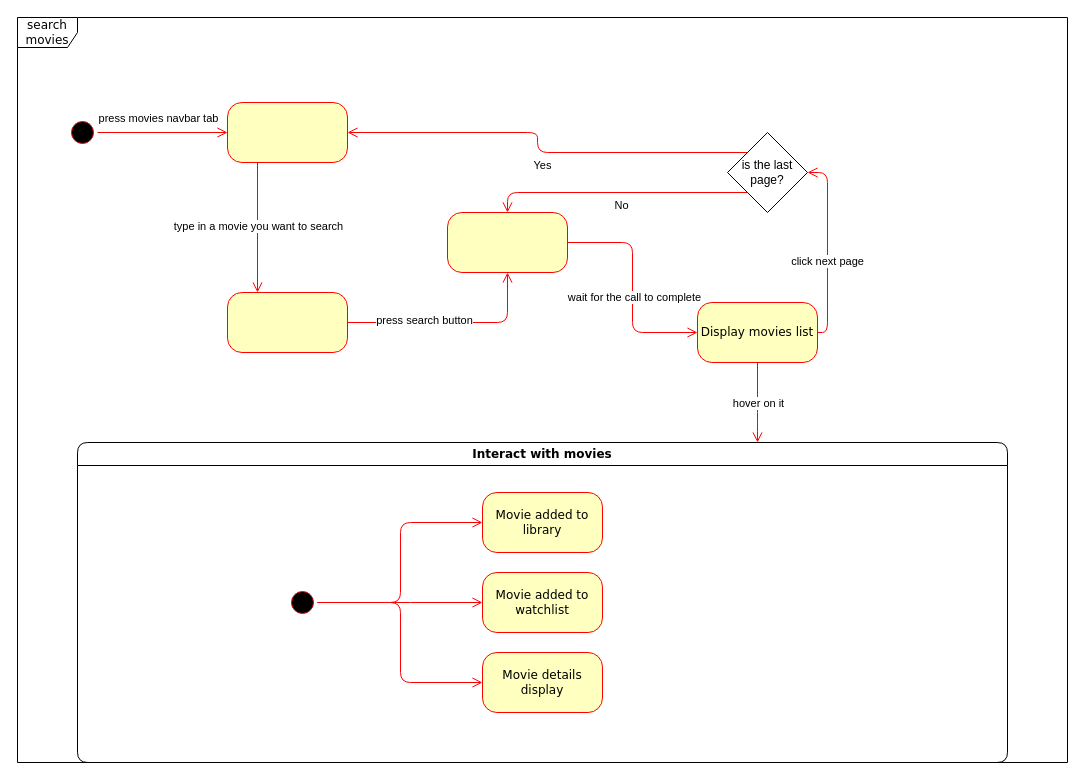
The diagram is 1085 pixels wide and 780 high, and some of its shapes have lost their labels. The shapes that lost their labels are listed below. From the top down, each one's centre as x and y in pixels, then its label:
At pixel 287 132: "Blank Page".
At pixel 507 242: "Calling movie endpoint".
At pixel 287 322: "Movie typed in".
